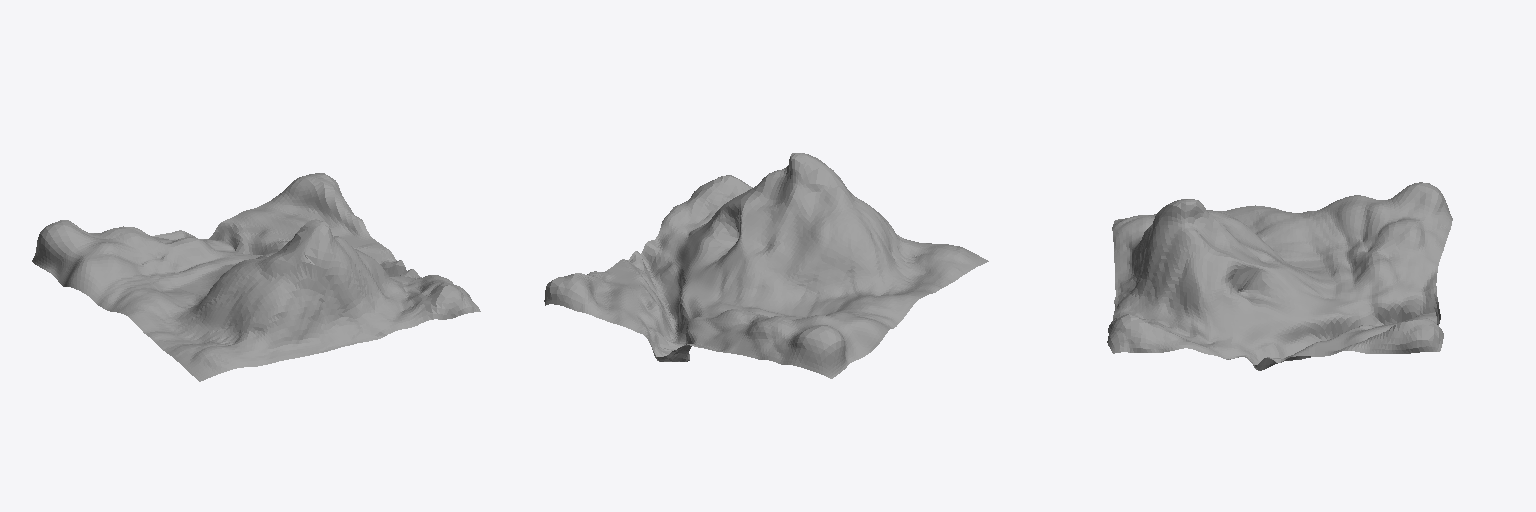
The model's file is mountain.obj.
The picture shows the model from 3 angles: view 1: azimuth 30°, elevation 25°; view 2: azimuth 150°, elevation 25°; view 3: azimuth 270°, elevation 25°; orthographic projection.
Visible parts, largest first — view 1: Plane; view 2: Plane; view 3: Plane.
Part boxes in pixels (left/top/right/bottom): Plane: left=32, top=173, right=480, bottom=381; Plane: left=544, top=153, right=988, bottom=378; Plane: left=1107, top=182, right=1452, bottom=370.
Size of the model in its own units: 217 by 87.28 by 215.